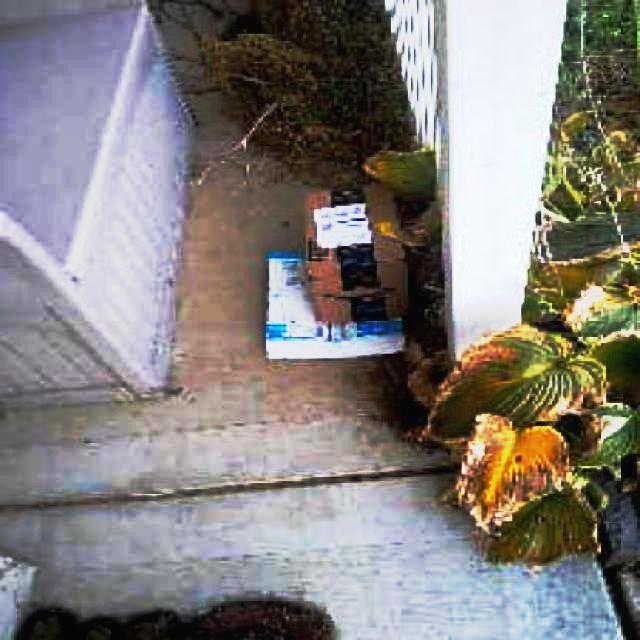Box: (303, 184, 414, 324), (269, 252, 408, 362)
